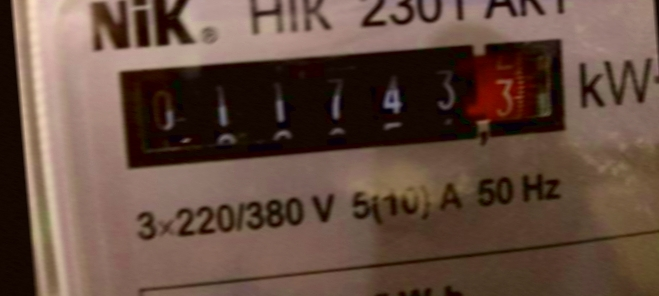0: (146, 86, 179, 135)
1: (266, 77, 291, 127), (211, 82, 232, 131)
3: (429, 65, 461, 115), (490, 75, 518, 121)
4: (375, 69, 407, 119)
7: (322, 75, 350, 124)
screen: (102, 25, 576, 181)
